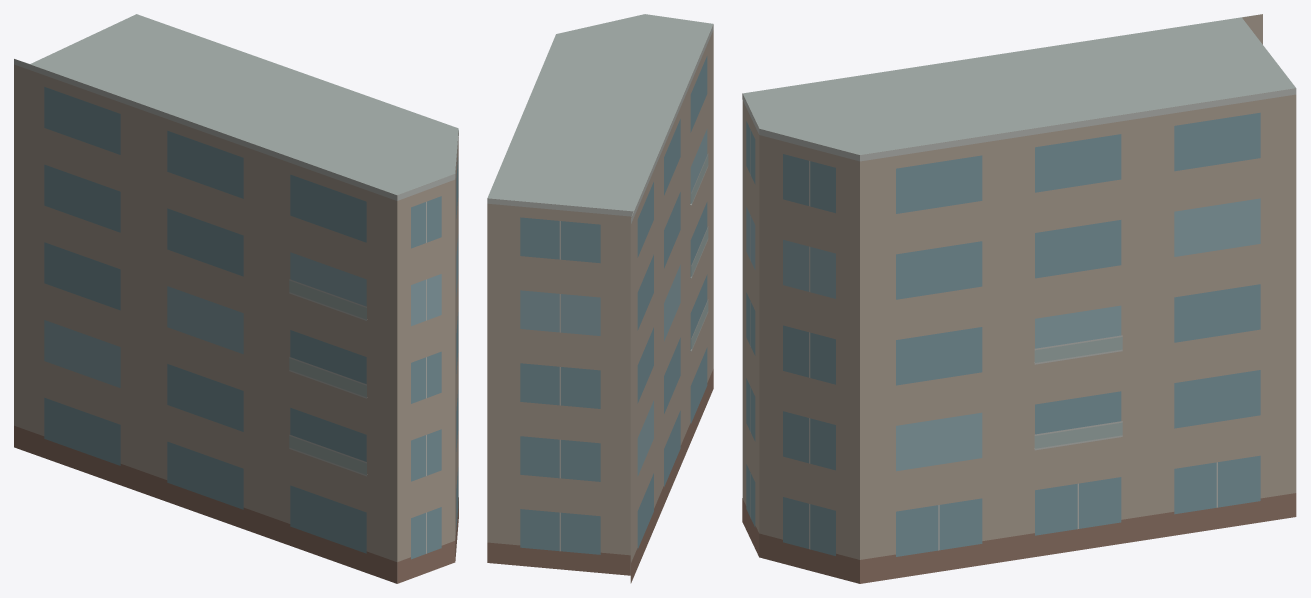
The model's file is survey-upis-32835372.glb.
The picture shows the model from 3 angles, left to right: view 1: azimuth 30°, elevation 25°; view 2: azimuth 150°, elevation 25°; view 3: azimuth 270°, elevation 25°; orthographic projection. The views are drawn at different scales.
Visible parts, largest first — view 1: survey-upis-32835372.tmp; view 2: survey-upis-32835372.tmp; view 3: survey-upis-32835372.tmp.
Boxes of the visible parts, x1,y1,x2,y2 form: survey-upis-32835372.tmp: (14, 14, 458, 583); survey-upis-32835372.tmp: (487, 14, 713, 583); survey-upis-32835372.tmp: (742, 14, 1296, 583).
Bounding box in the file's own units: 11.73 × 16.6 × 19.44.
